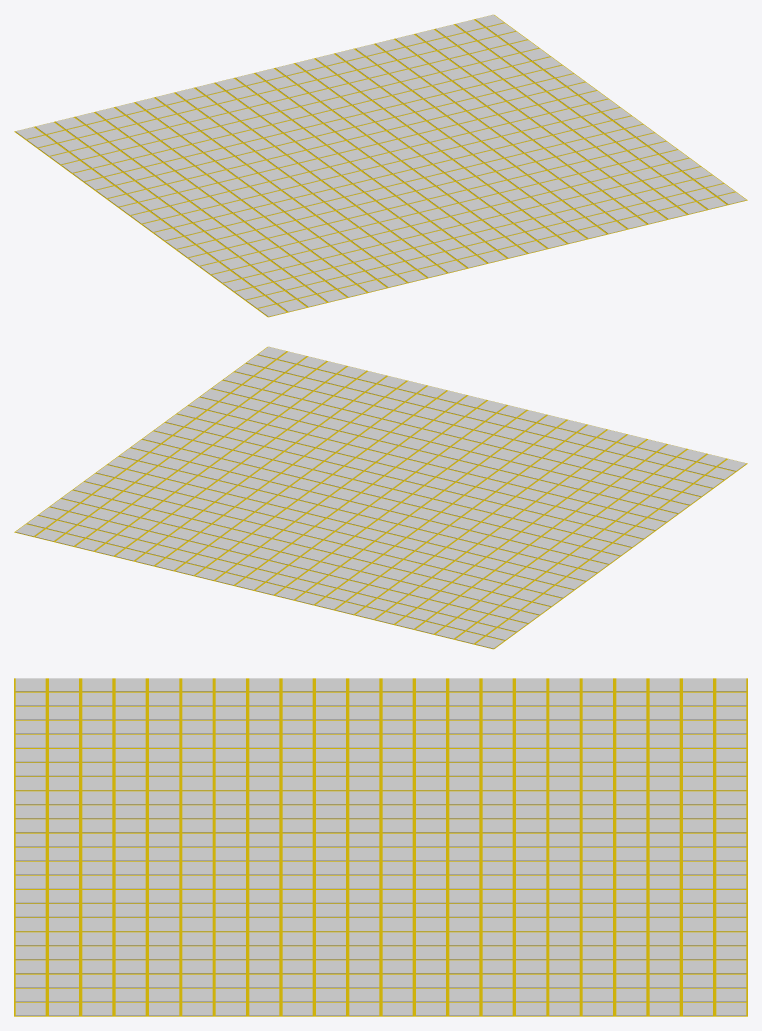
File: RoofBattle.fbx
The picture shows the model from 3 angles, top to bottom: view 1: azimuth 30°, elevation 25°; view 2: azimuth 150°, elevation 25°; view 3: azimuth 270°, elevation 25°; orthographic projection. The views are drawn at different scales.
Size of the model in its own units: 4800 by 3.89 by 4400.
